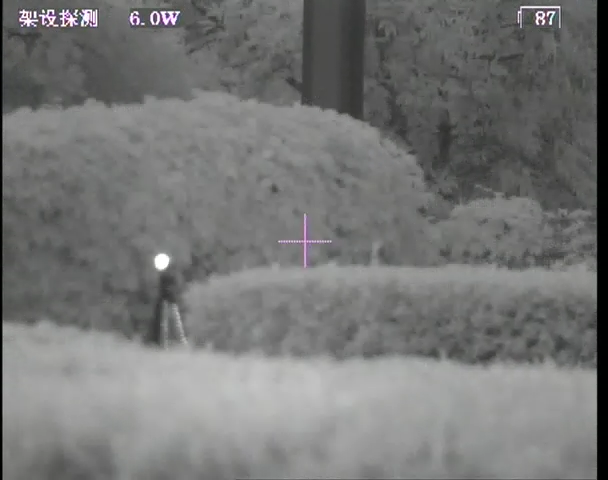my: (152, 253, 170, 273)
